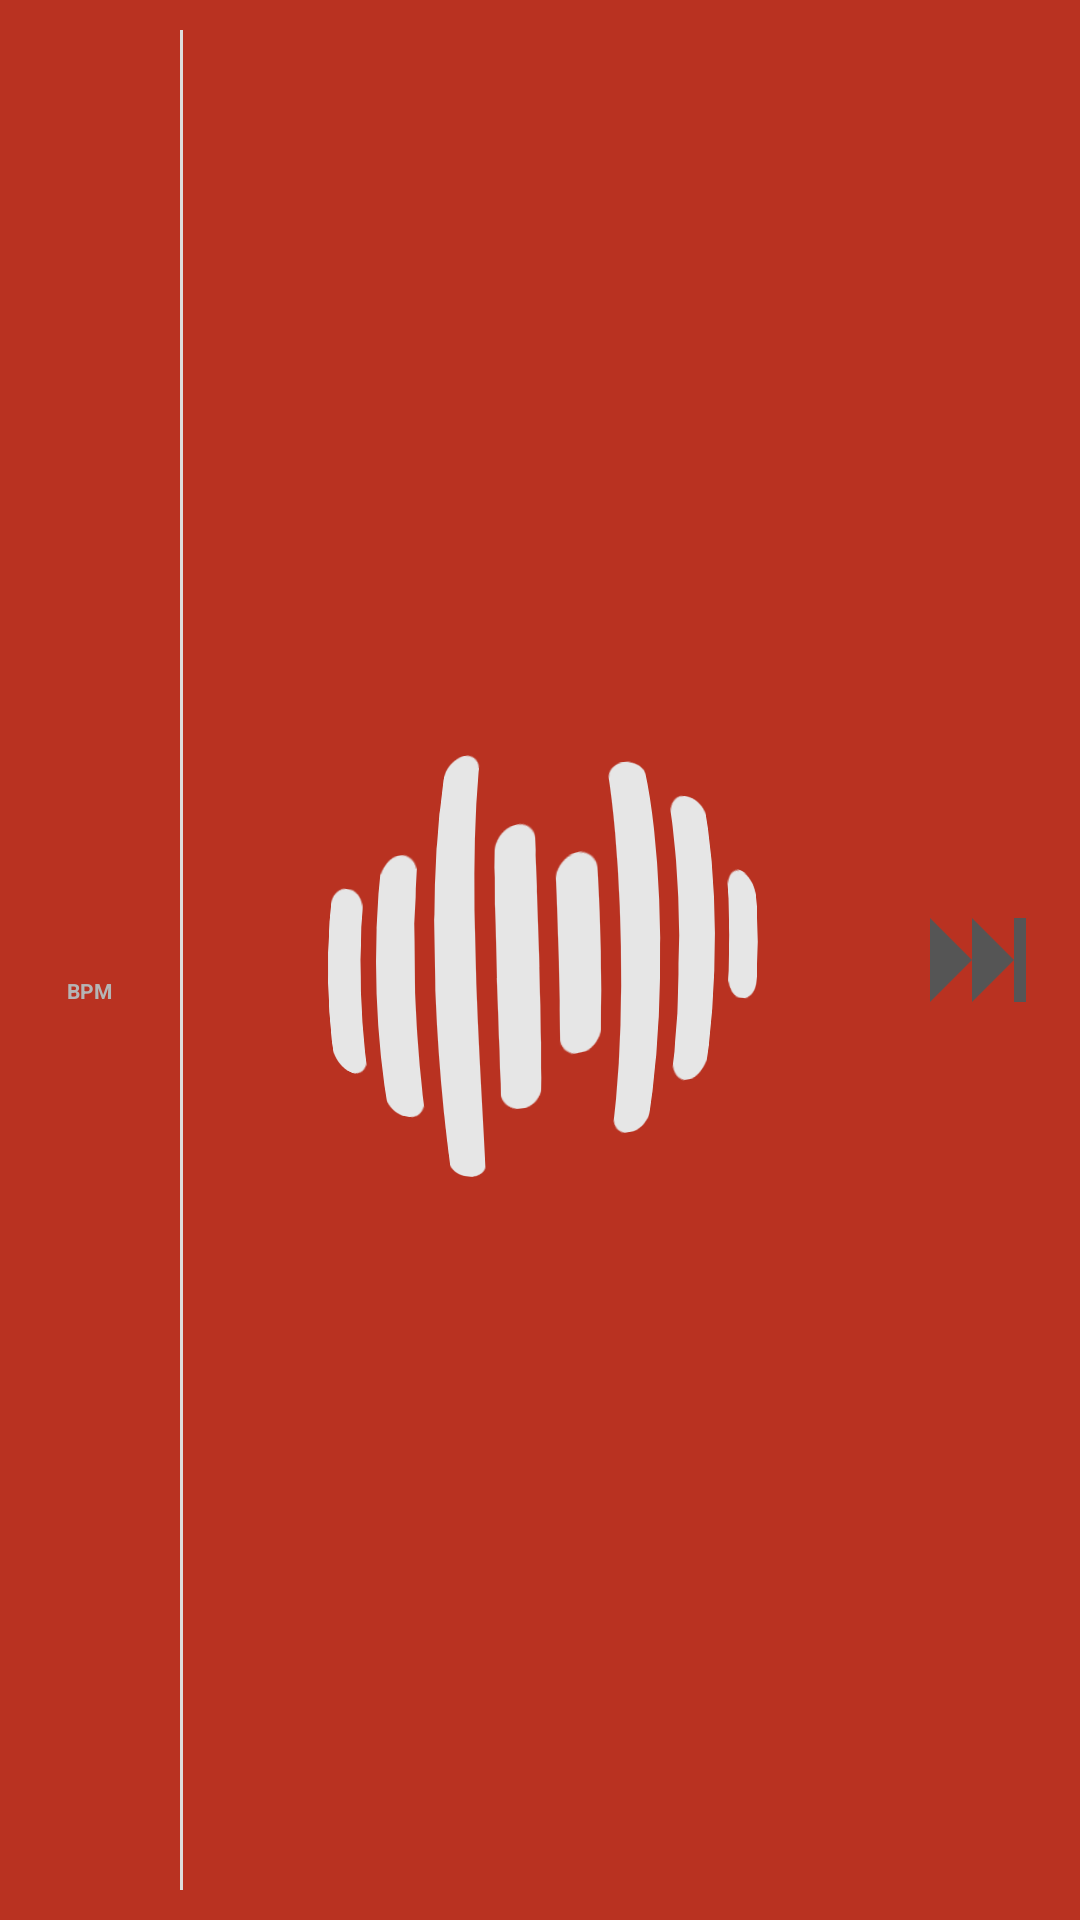

Screen size 1080px×1920px. Icon name, then its center in pixels as [x,y]:
skip forward: [978,960]
